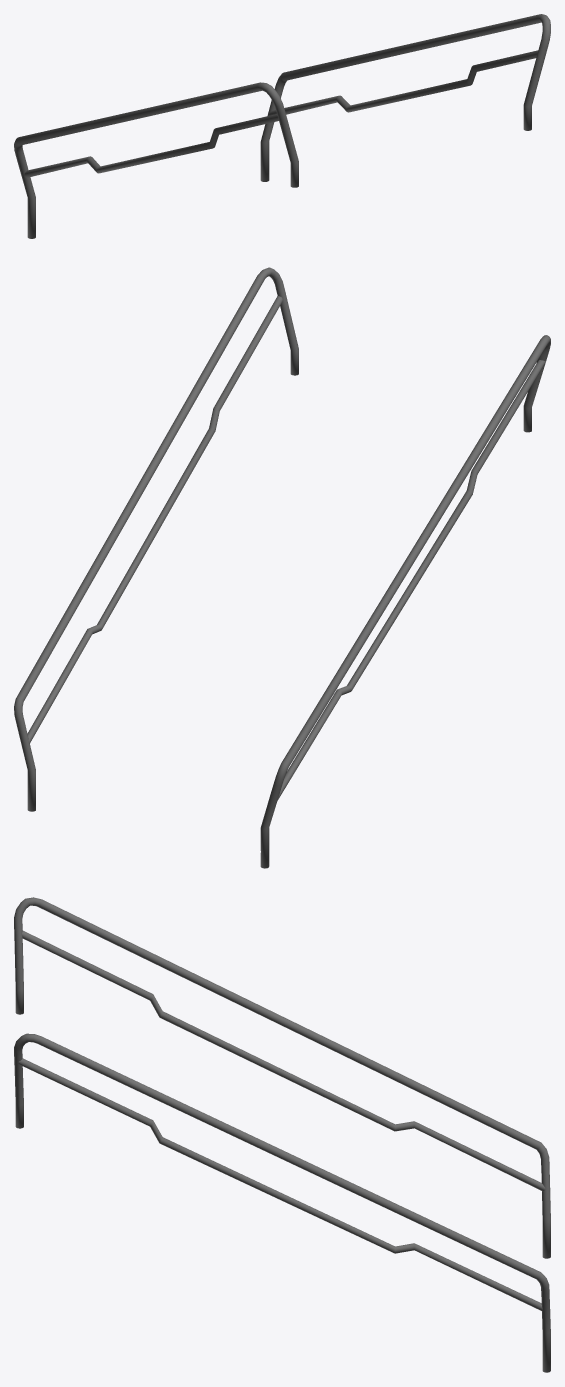
File: sf_stair_rails_4.glb
3 renders of one model, top to bottom at view 1: azimuth 30°, elevation 25°; view 2: azimuth 150°, elevation 25°; view 3: azimuth 270°, elevation 25°, orthographic.
Parts seen in each view (by area): view 1: Platform_Rails_4; view 2: Platform_Rails_4; view 3: Platform_Rails_4.
Boxes of the visible parts, x1=… form: Platform_Rails_4: x1=14, y1=14, x2=550, y2=238; Platform_Rails_4: x1=14, y1=267, x2=550, y2=868; Platform_Rails_4: x1=14, y1=897, x2=550, y2=1372.
Size of the model in its own units: 2.36 by 2.72 by 3.8.
1 material, 1 textured.
